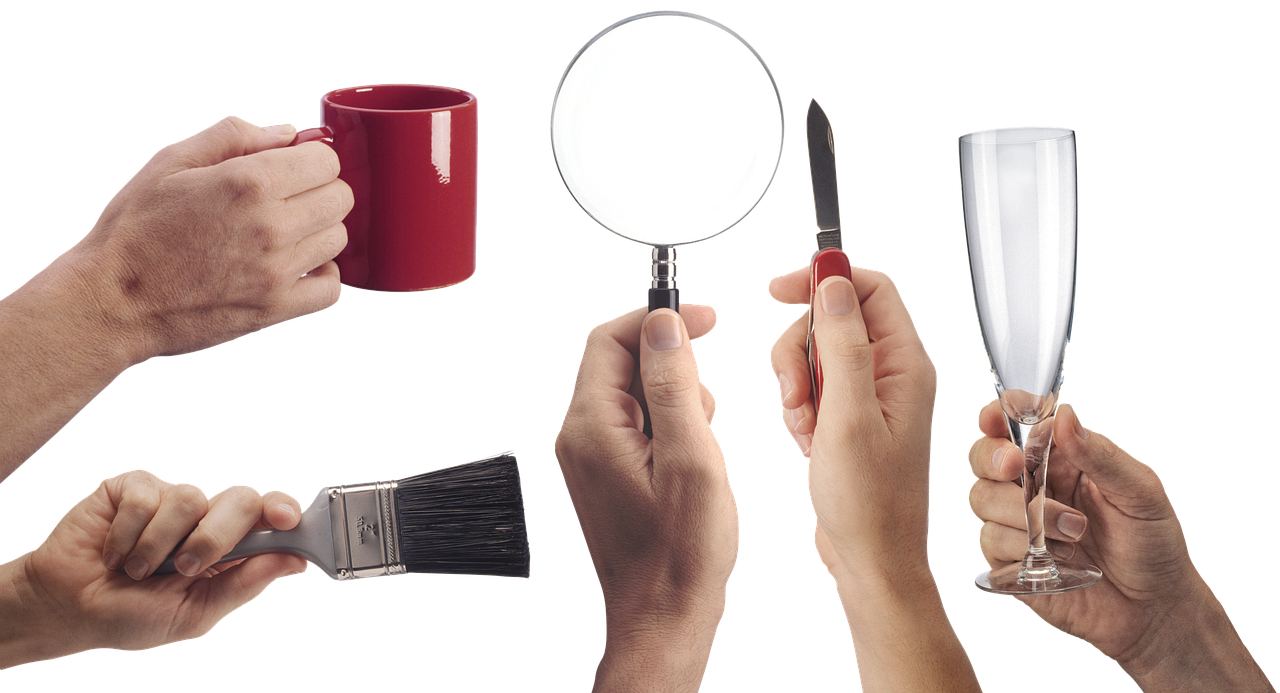knife: (801, 97, 855, 429)
